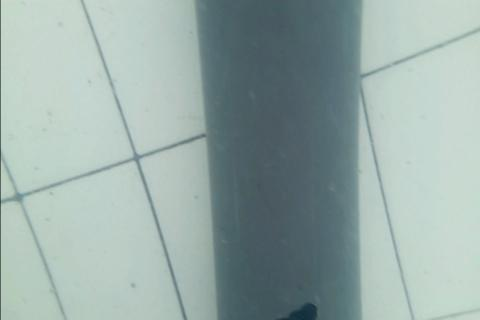kebocoran: (271, 300, 318, 320)
